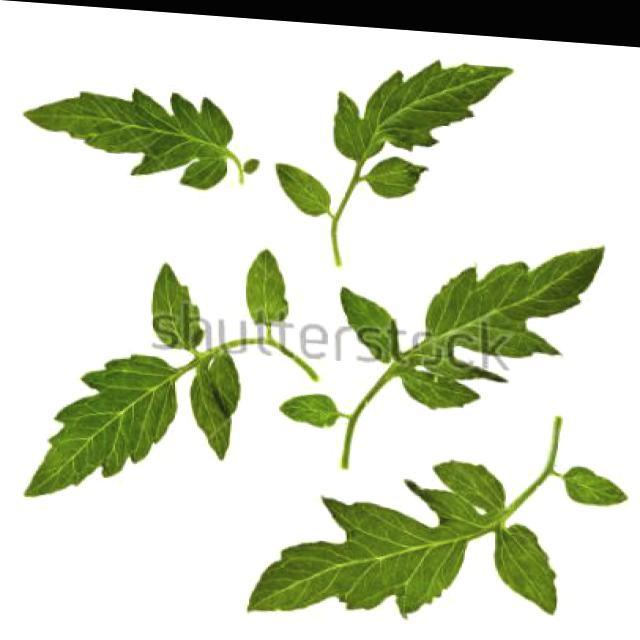Tomato bacterial spot leaf: (241, 387, 595, 639), (27, 225, 304, 518), (287, 29, 528, 327), (339, 213, 596, 464), (11, 68, 271, 208)
